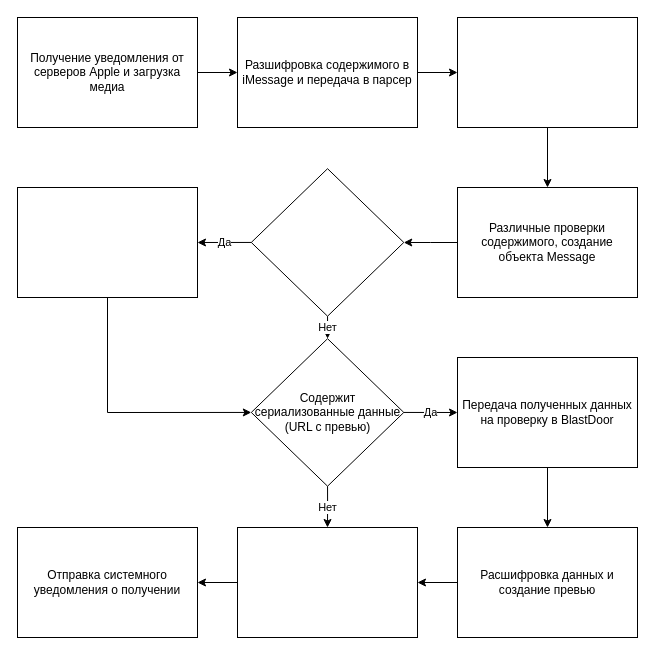
This 655x655 diagram has some shape labels left out. Each missing label, with the centre of its shape:
"Загрузка медиа с серверов Apple, расшифровка и временное сохранение" goes at (x=107, y=242).
"Передача полученных файлов на проверку в BlastDoor" goes at (x=547, y=72).
"Сообщение содержит медиа файлы" goes at (x=327, y=242).
"Сохранение сообщение и уведомление пользователя" goes at (x=327, y=582).
